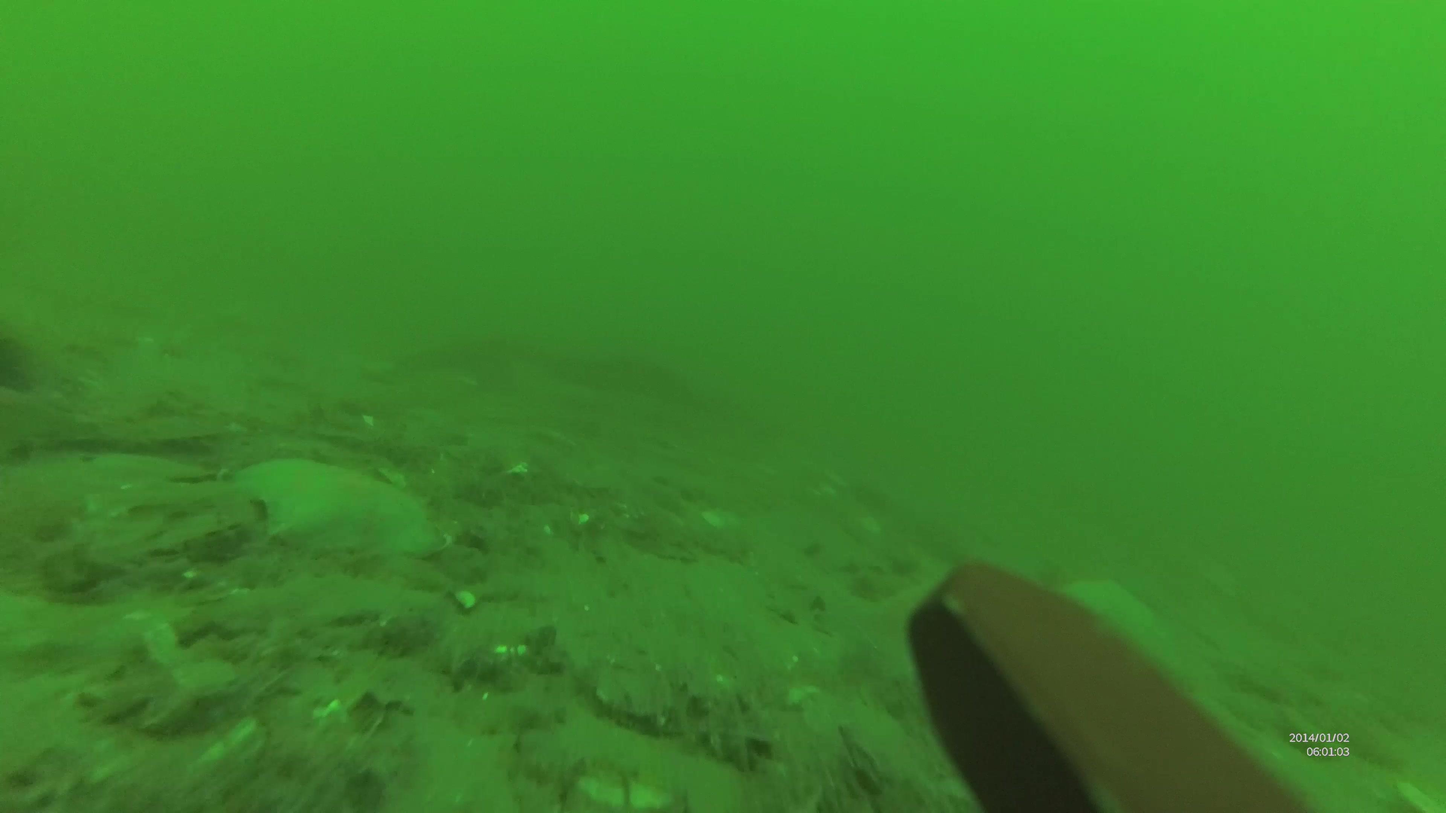holothurian: (241, 457, 452, 559)
